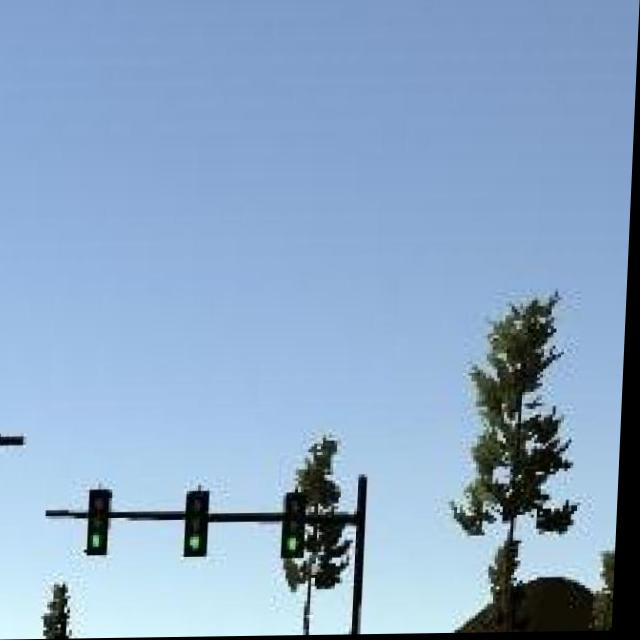green light: (286, 493, 315, 559), (189, 491, 215, 560), (90, 490, 112, 557)
